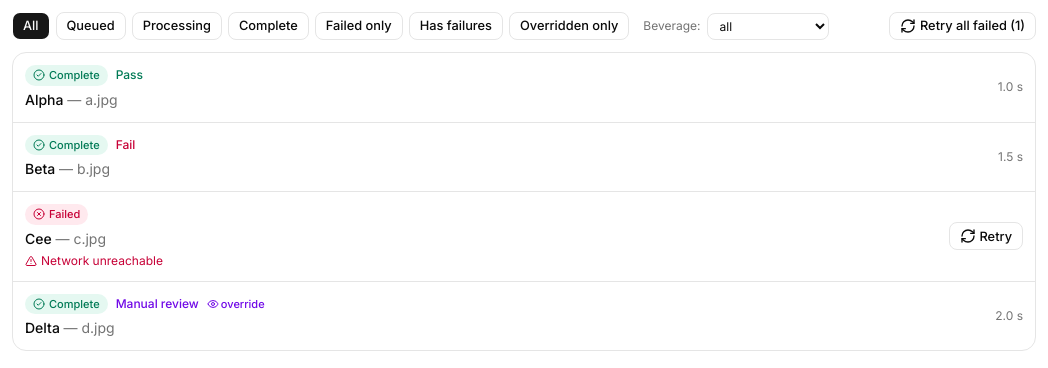
Scenario: BatchQueue › filters by beverage type
The image size is (1048, 368).
Select "wine" in the dropdown named "beverage filter" at (768, 26), box [706,12,828,40]
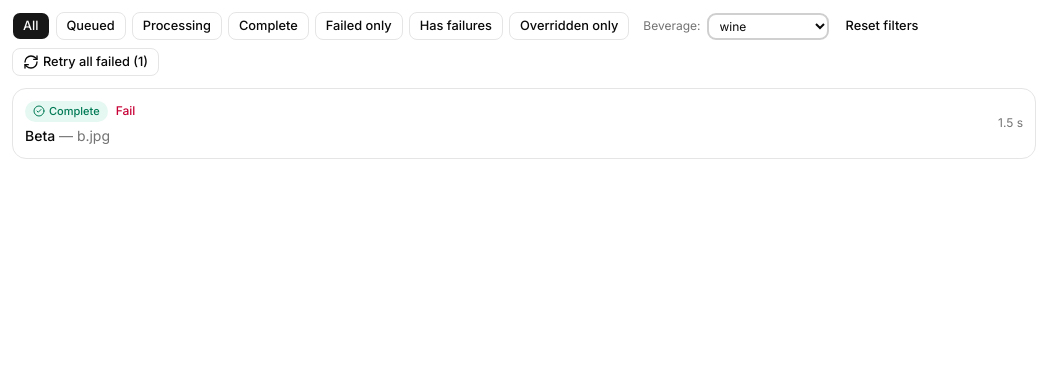
Check: the button "Beta — b.jpg" is shown, box [25,126,110,146]
Check: the number of list items with test id "batch-queue-row" is 1, box [13,89,1035,158]
